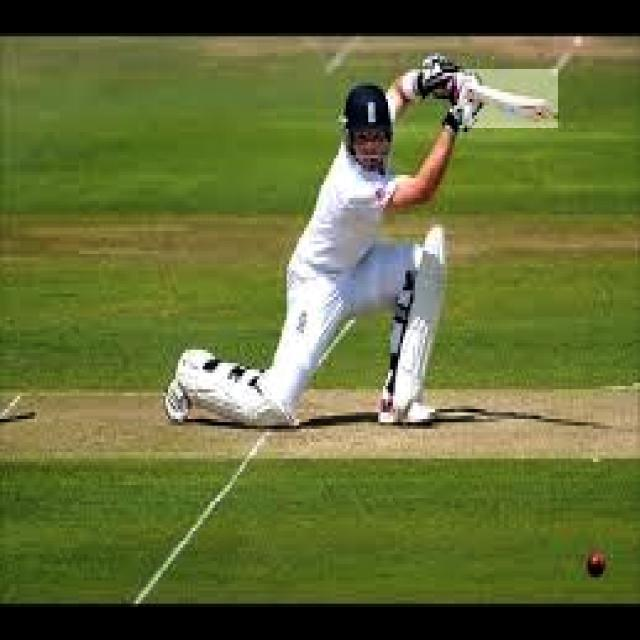bat: (460, 68, 557, 125)
toe: (533, 100, 557, 123)
